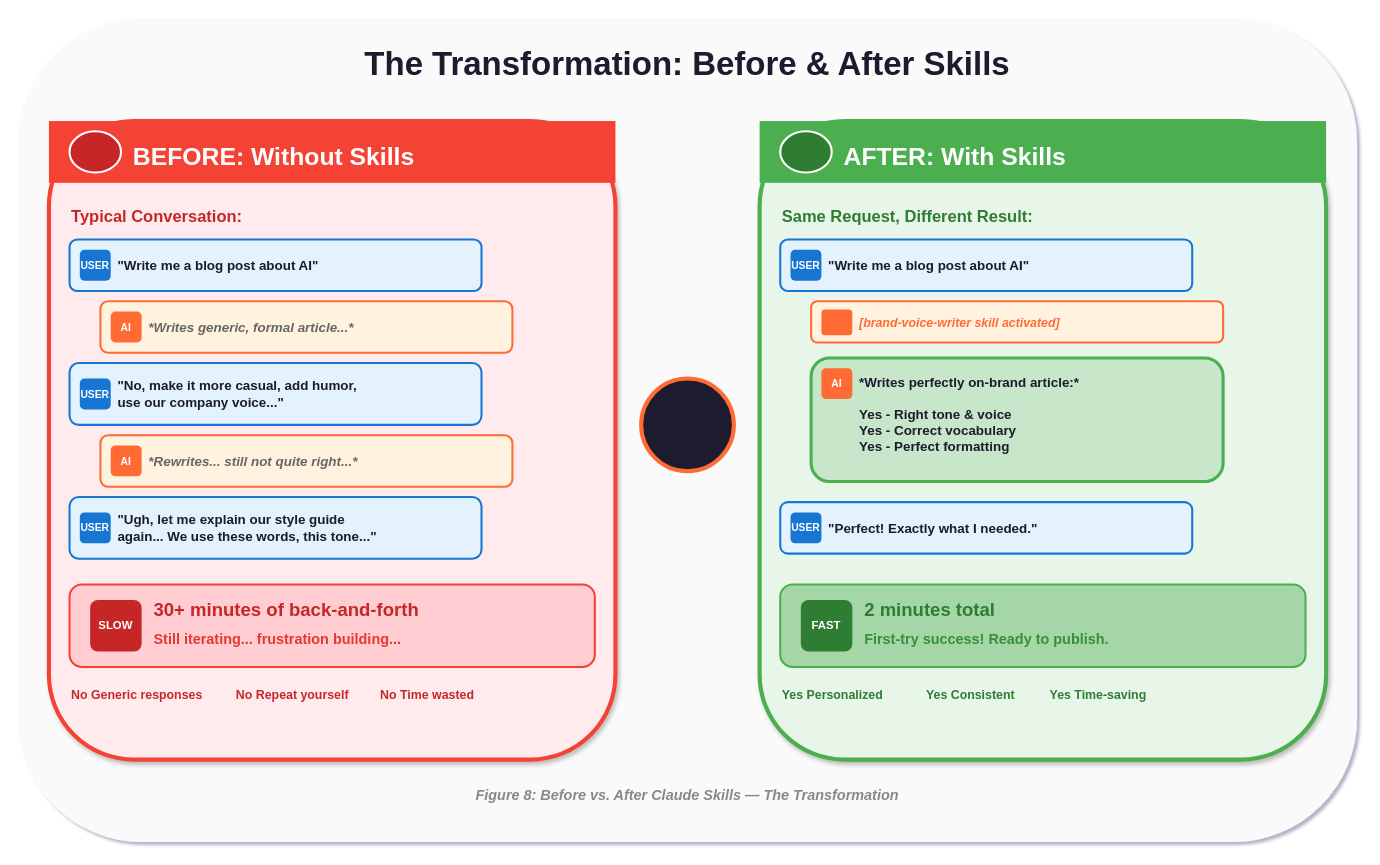
This 1380x865 diagram has some shape labels left out. The shapes that lost their labels are listed below. From the top down, each one's centre as x and y in pixels, then its label:
At pixel 836 322: "SKILL".
At pixel 687 424: "VS".
